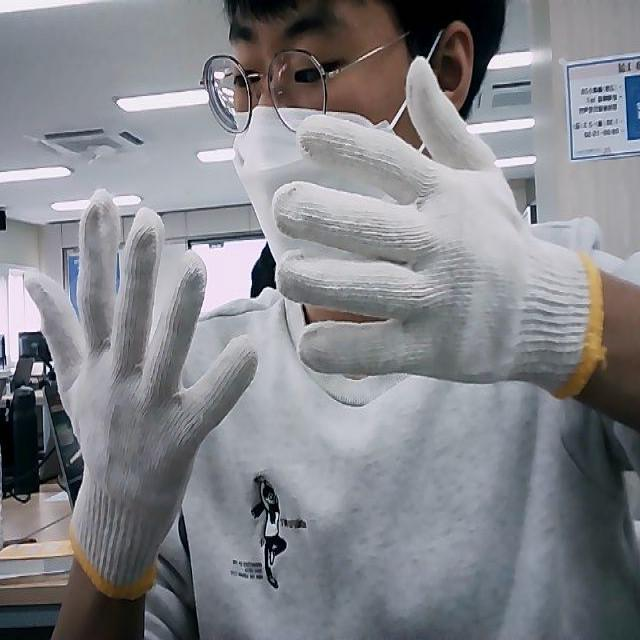gloves: (272, 58, 602, 400), (21, 188, 258, 592)
